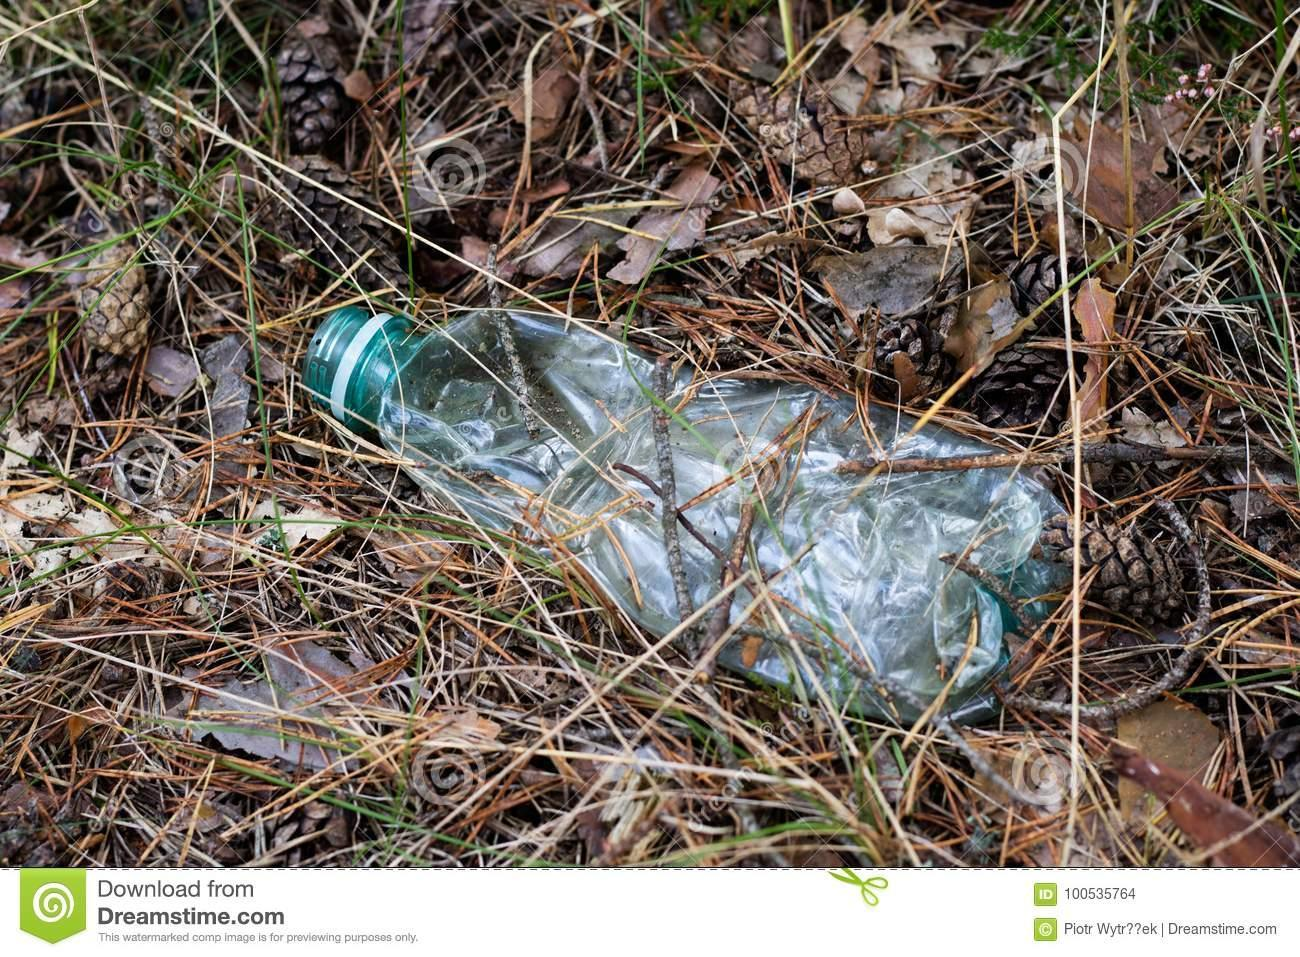bottle: (294, 255, 1087, 795)
